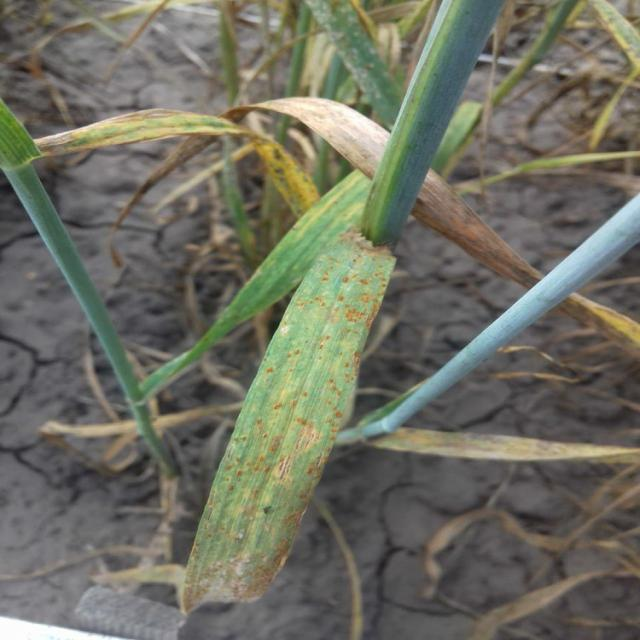wheat-septoria: (183, 223, 396, 613)
